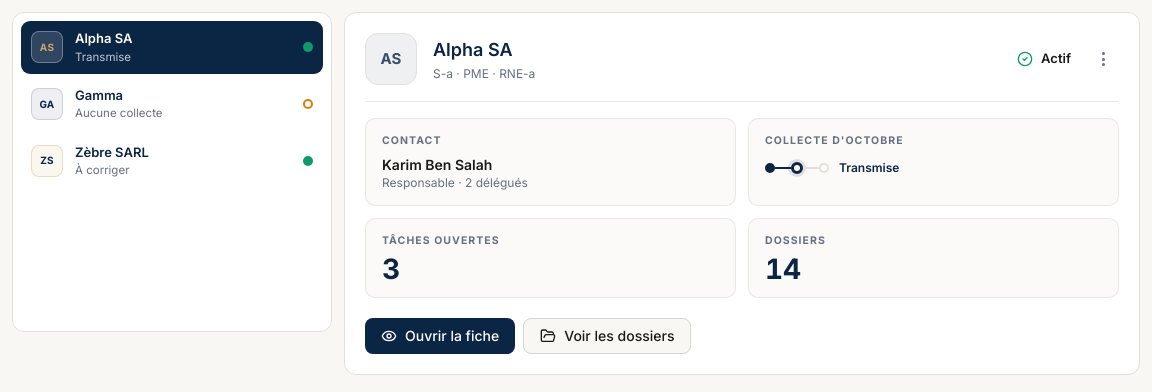
Test: Registre des sociétés : liste et volet › choisir une autre société change le volet ; sans contact ni collecte, le volet le dit
Click the button "GA Gamma Aucune collecte": (47, 104) [21,78,323,131]
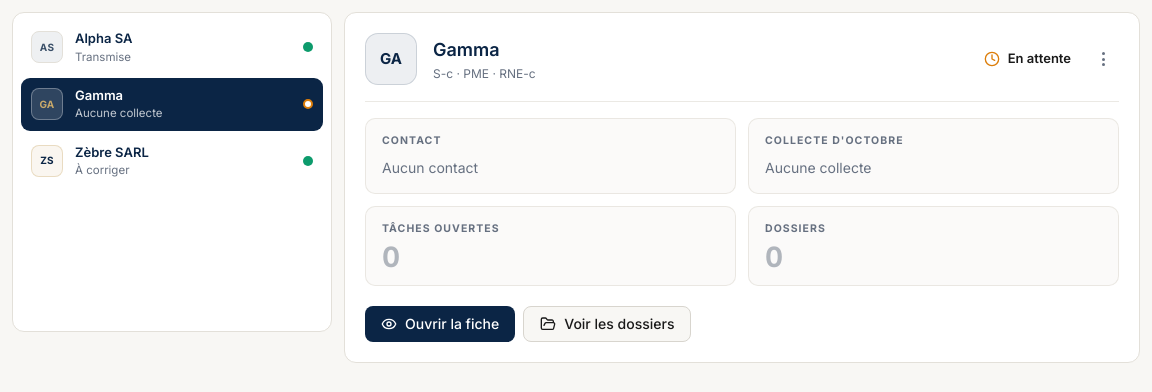
Result: the heading "Gamma" is shown at [433,39,500,60]
Result: the text "Aucun contact" is shown at [382,159,478,176]
Result: the text "Aucune collecte" below "Collecte d'octobre" is shown at [765,159,872,176]
